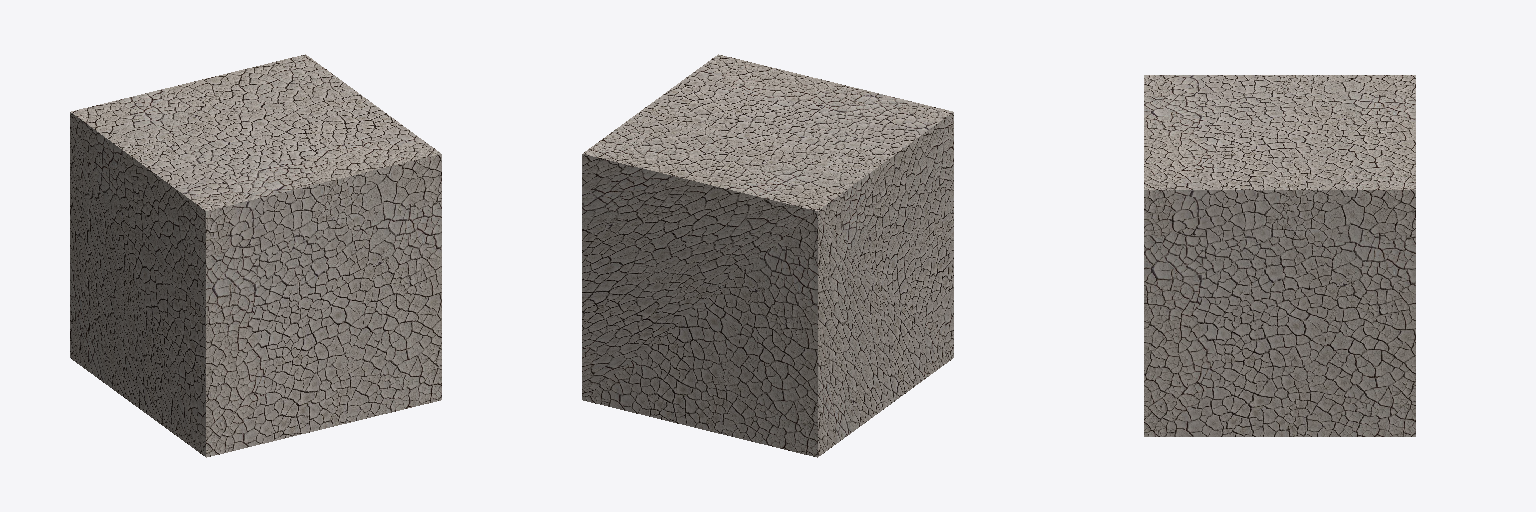
3 views of the same model, side by side, from view 1: azimuth 30°, elevation 25°; view 2: azimuth 150°, elevation 25°; view 3: azimuth 270°, elevation 25° (orthographic).
Parts seen in each view (by area): view 1: Cube; view 2: Cube; view 3: Cube.
Part boxes in pixels (x1,y1,x2,y2): Cube: (70, 54, 441, 457); Cube: (582, 54, 953, 457); Cube: (1144, 75, 1415, 436).
Size of the model in its own units: 2 by 2 by 2.
Materials: 1 (1 with a texture image).